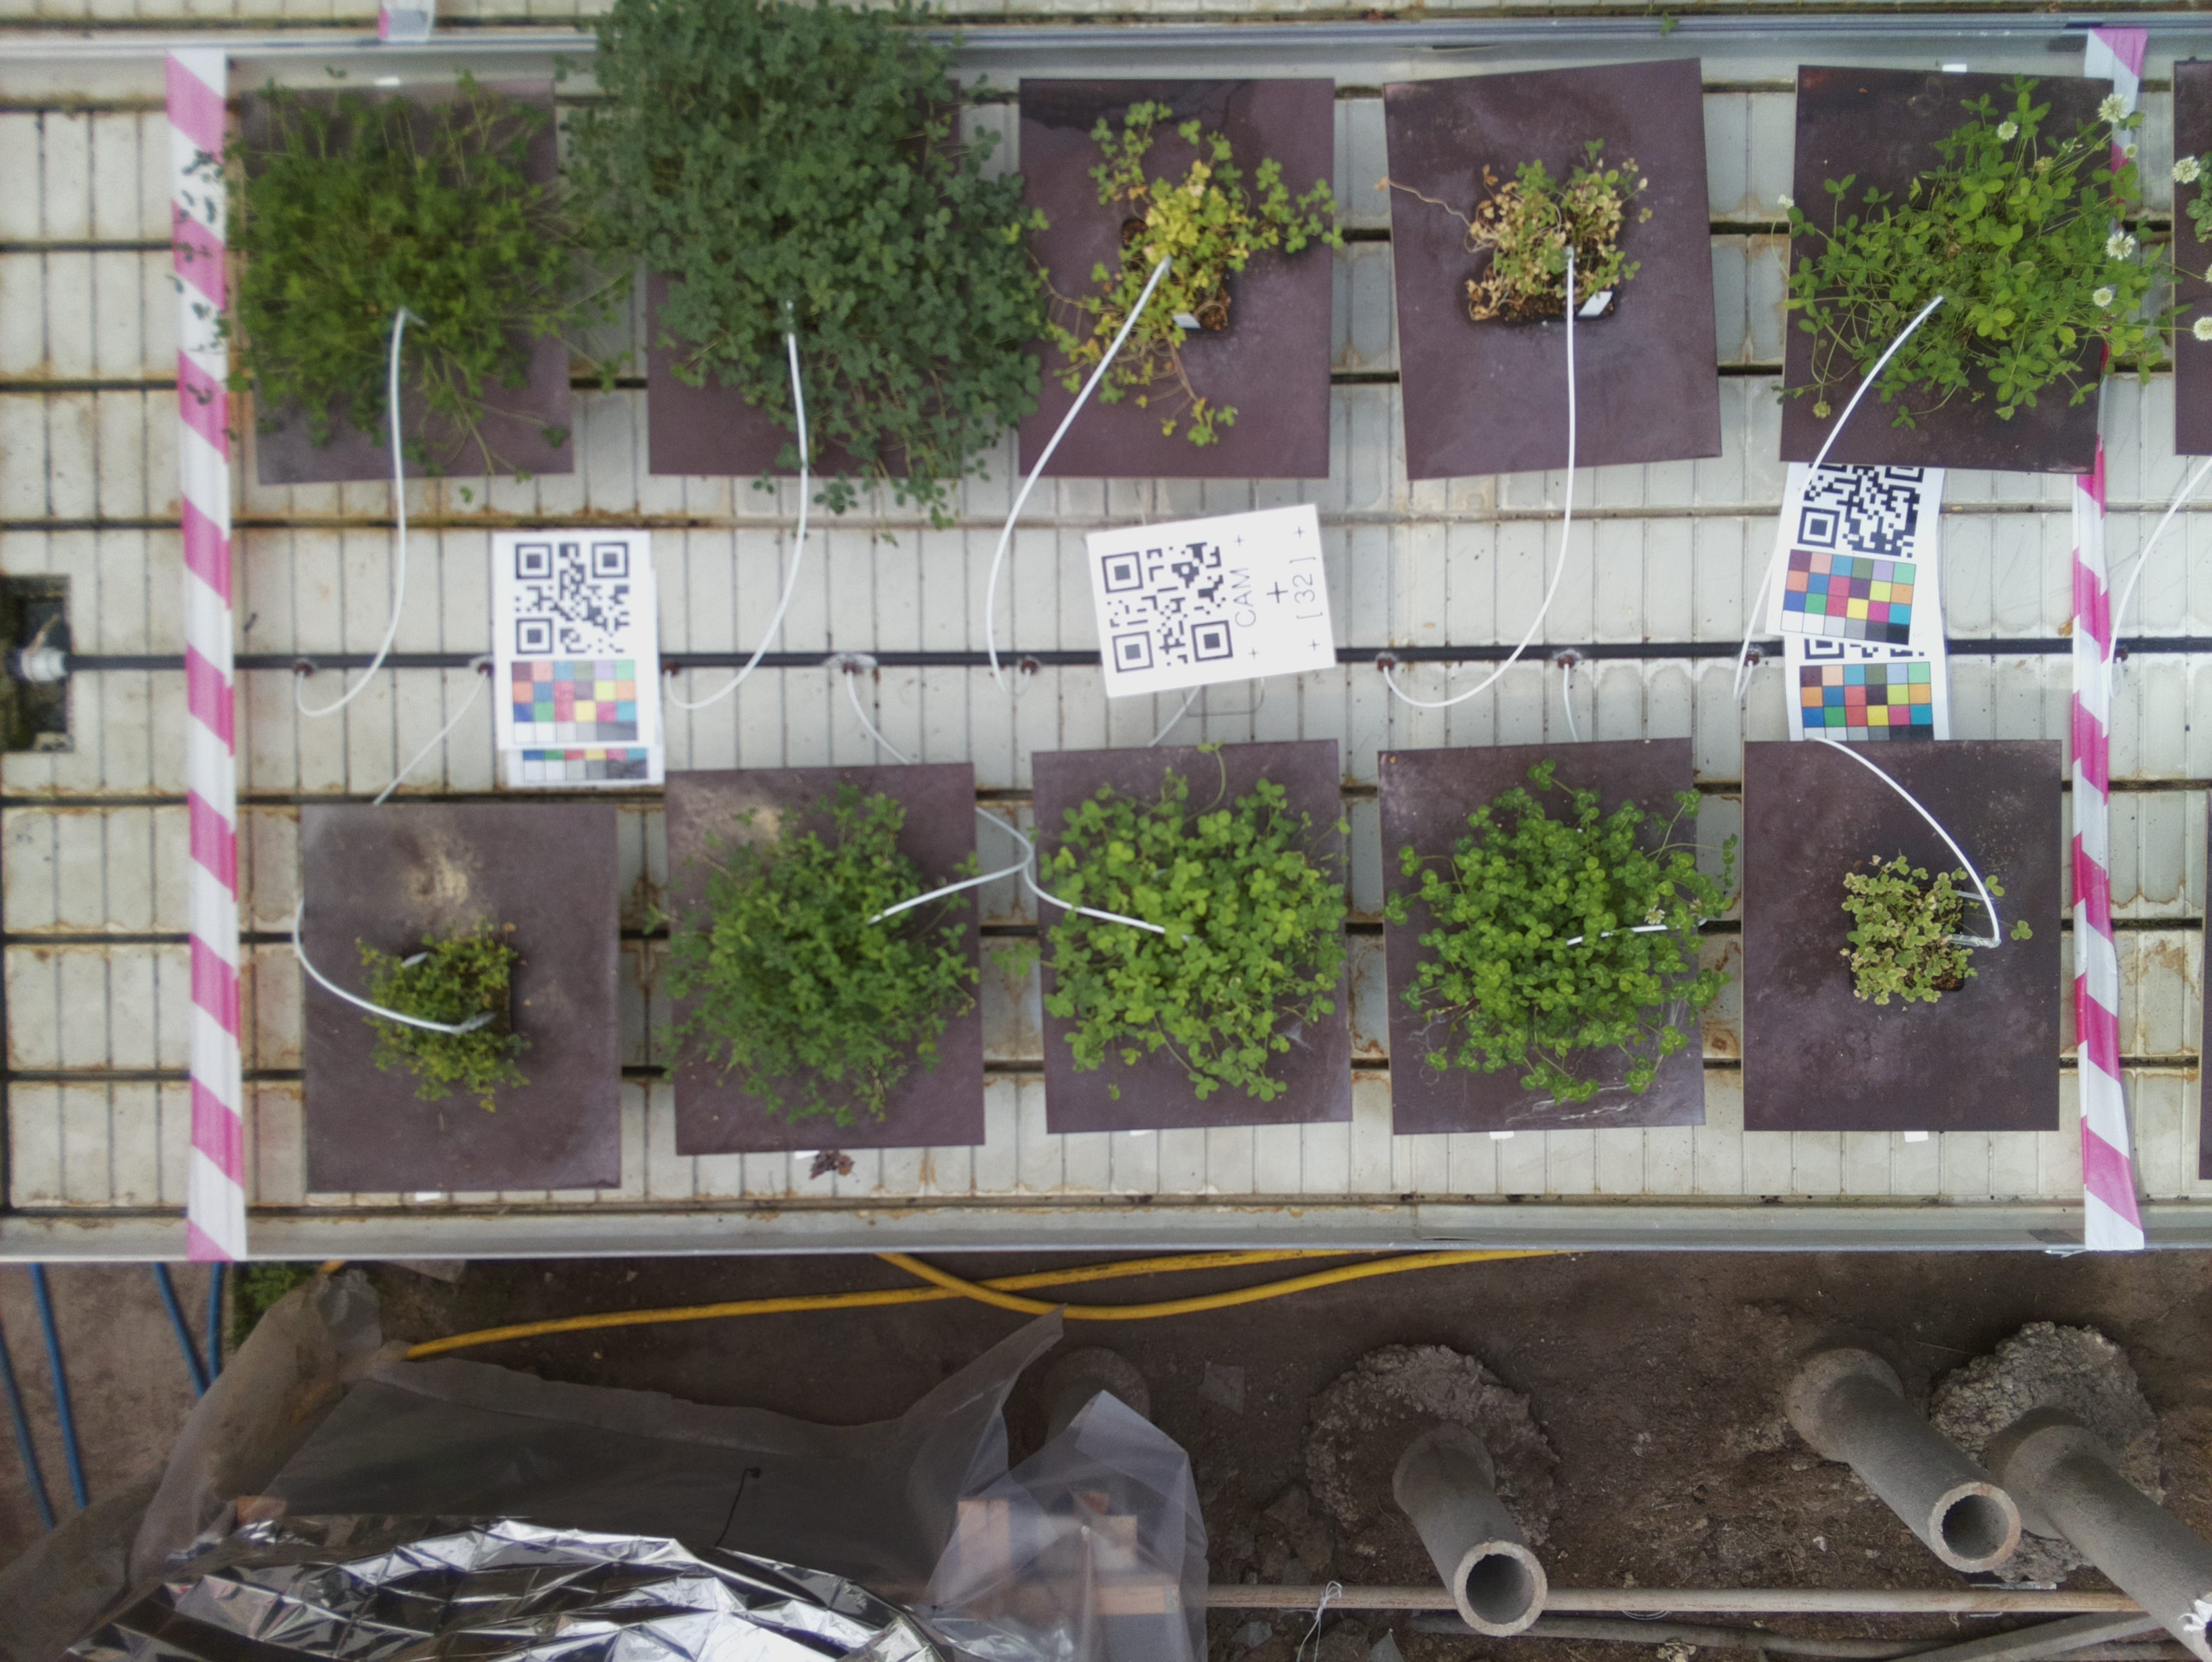POT: (239, 86, 587, 480), (1386, 79, 1734, 470), (641, 79, 969, 484), (293, 803, 629, 1187), (1016, 79, 1337, 478), (1376, 751, 1713, 1131), (1793, 66, 2102, 473), (1028, 747, 1355, 1128), (662, 768, 986, 1145), (1748, 745, 2058, 1131)
QRCODE: (1084, 508, 1348, 698)
QRCOLOR: (496, 534, 655, 747), (1767, 466, 1943, 648)
